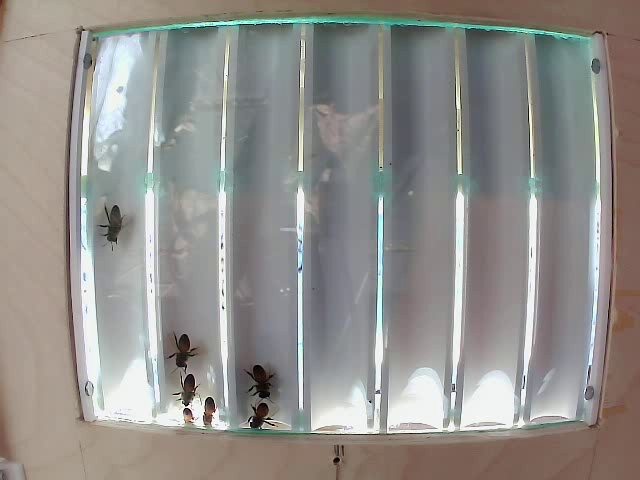bee: (93, 192, 136, 239), (246, 361, 285, 395), (233, 397, 271, 429), (160, 334, 191, 373), (168, 374, 199, 404), (198, 390, 217, 423)
